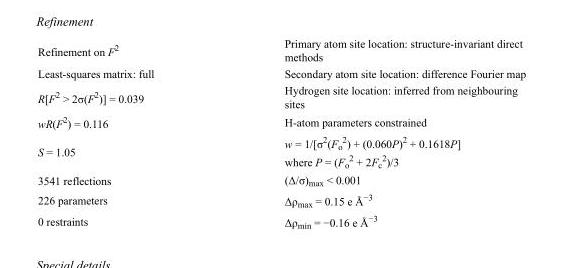table: (37, 36, 525, 229)
table column: (218, 36, 525, 229), (37, 36, 218, 229)
table row: (37, 131, 525, 171), (37, 81, 525, 111), (37, 36, 525, 64), (37, 189, 525, 210), (37, 111, 525, 131), (37, 210, 525, 229), (37, 171, 525, 189), (37, 64, 525, 81)
